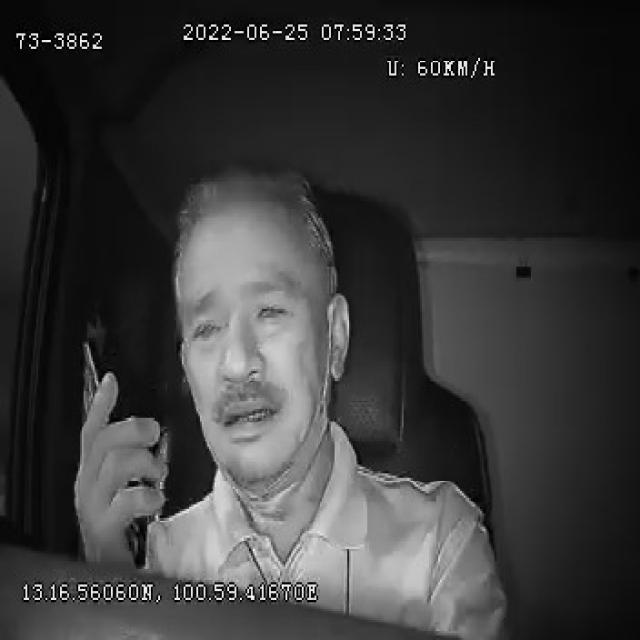phone: (76, 334, 148, 574)
